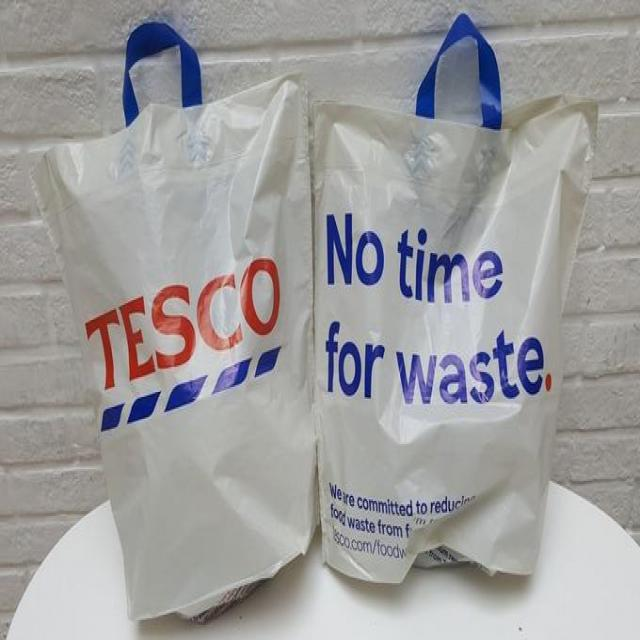plastic_bag: (33, 10, 326, 607), (322, 10, 582, 590)
